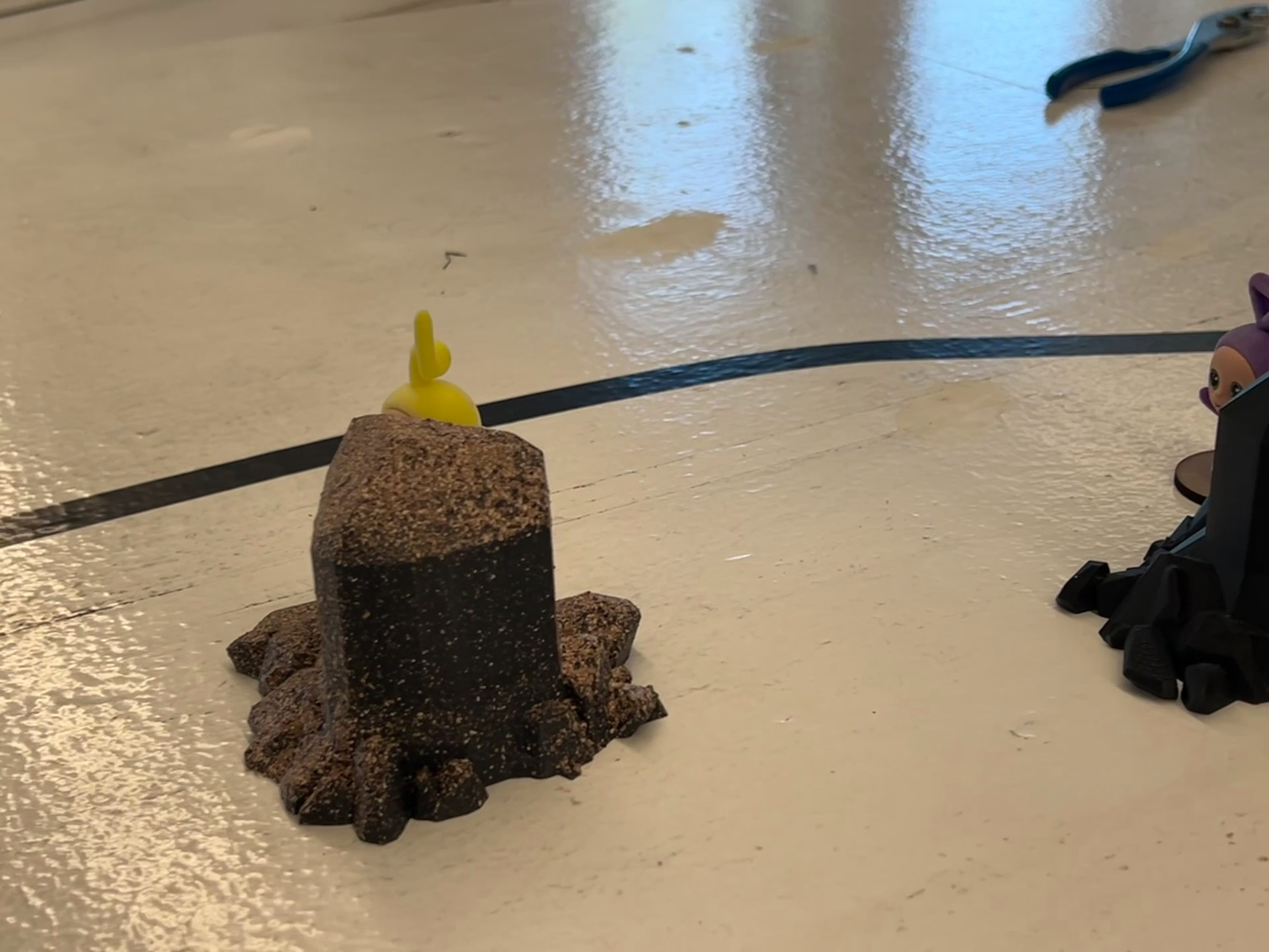teletubby: (383, 311, 481, 425)
